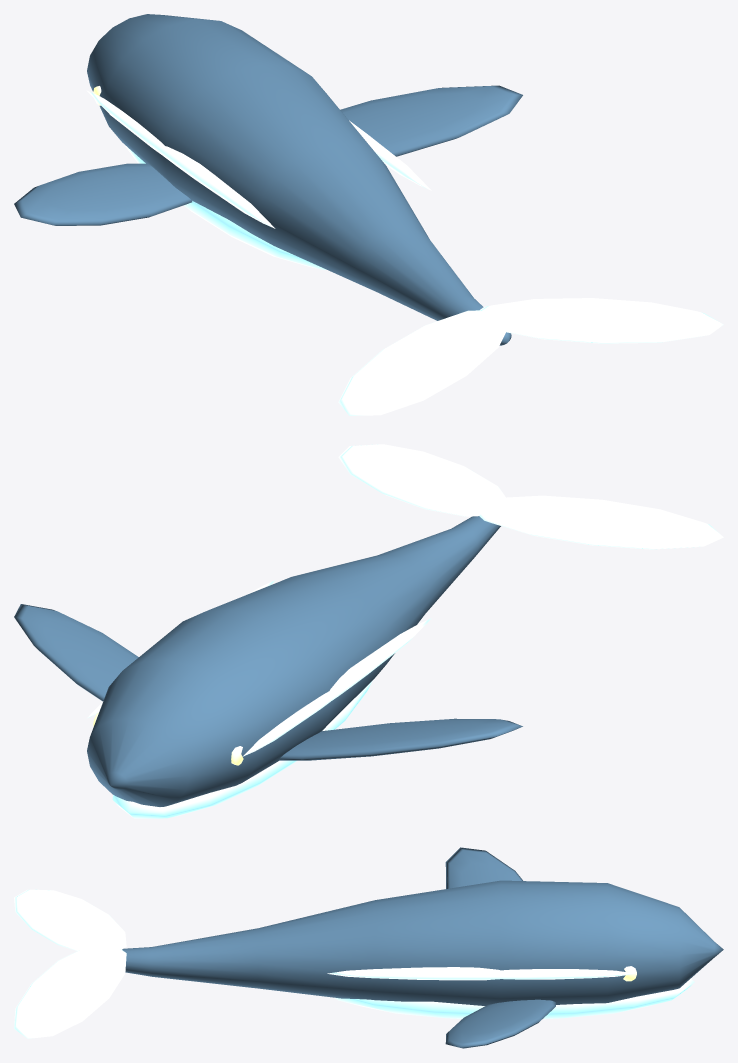
The model's file is cloud_whale_leviathan.glb.
3 renders of one model, top to bottom at view 1: azimuth 30°, elevation 25°; view 2: azimuth 150°, elevation 25°; view 3: azimuth 270°, elevation 25°, orthographic. The views are drawn at different scales.
Parts seen in each view (by area): view 1: PecFin_-1.0, AuroraStripe_-1.0, WhaleBelly; view 2: PecFin_-1.0, AuroraStripe_-1.0, WhaleBelly; view 3: PecFin_-1.0, AuroraStripe_-1.0, WhaleBelly.
Boxes of the visible parts, x1,y1,x2,y2 form: PecFin_-1.0: [14, 14, 522, 345]; AuroraStripe_-1.0: [86, 90, 723, 415]; WhaleBelly: [123, 143, 326, 269]; PecFin_-1.0: [14, 516, 522, 806]; AuroraStripe_-1.0: [87, 444, 723, 756]; WhaleBelly: [112, 681, 372, 818]; PecFin_-1.0: [122, 847, 723, 1048]; AuroraStripe_-1.0: [14, 889, 635, 1038]; WhaleBelly: [334, 978, 694, 1019].
Size of the model in its own units: 24.46 by 6.8 by 36.61.
